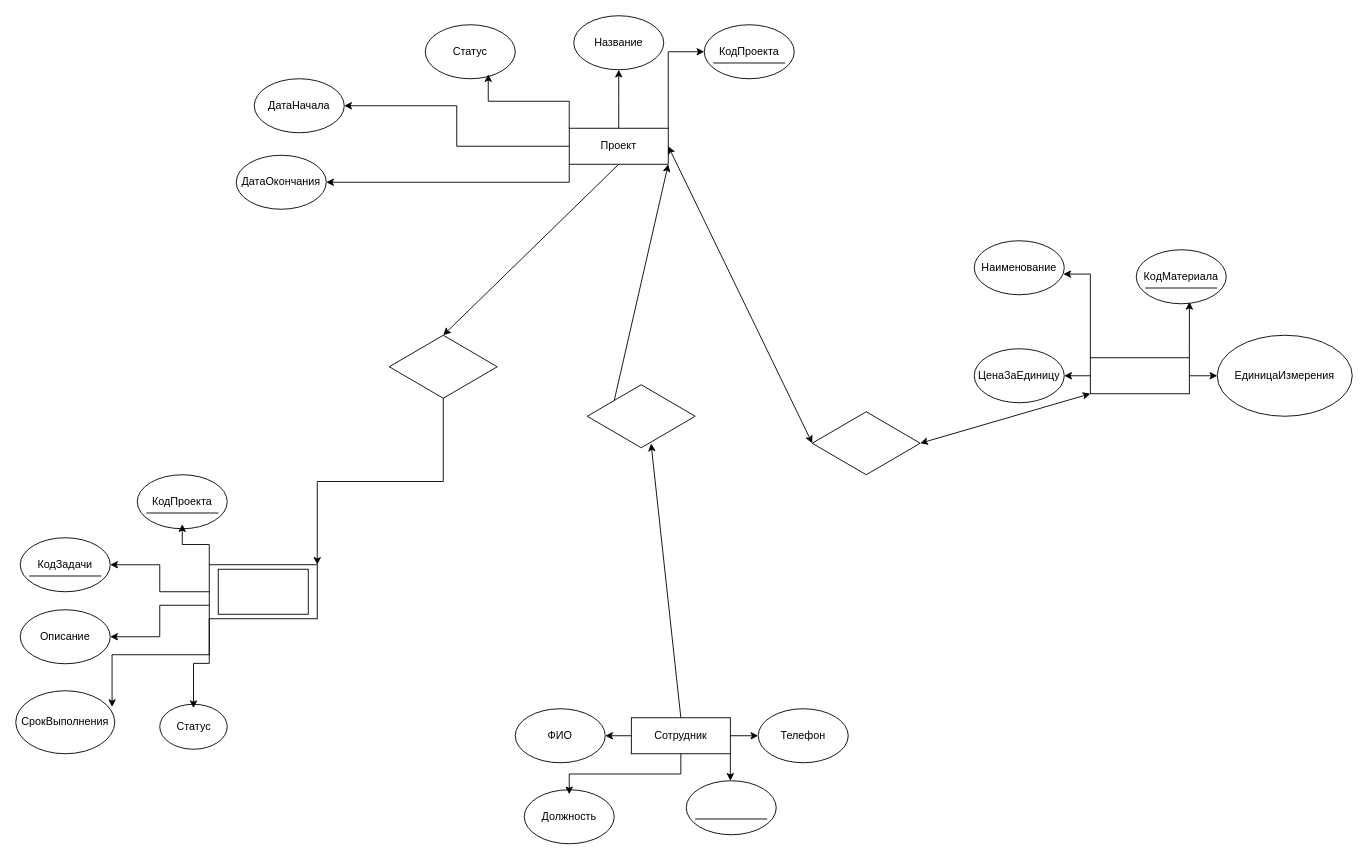
The diagram is 1368 pixels wide and 860 high, and some of its shapes have lost their labels. The centre of each missing label's shape, as x and y in pixels:
"ВключаетВСебя" goes at (442,366).
"Задача" goes at (262,591).
"Использует" goes at (865,443).
"Материалы" goes at (1139,375).
"Работает_На" goes at (640,416).
"Табельный номер" goes at (730,807).
